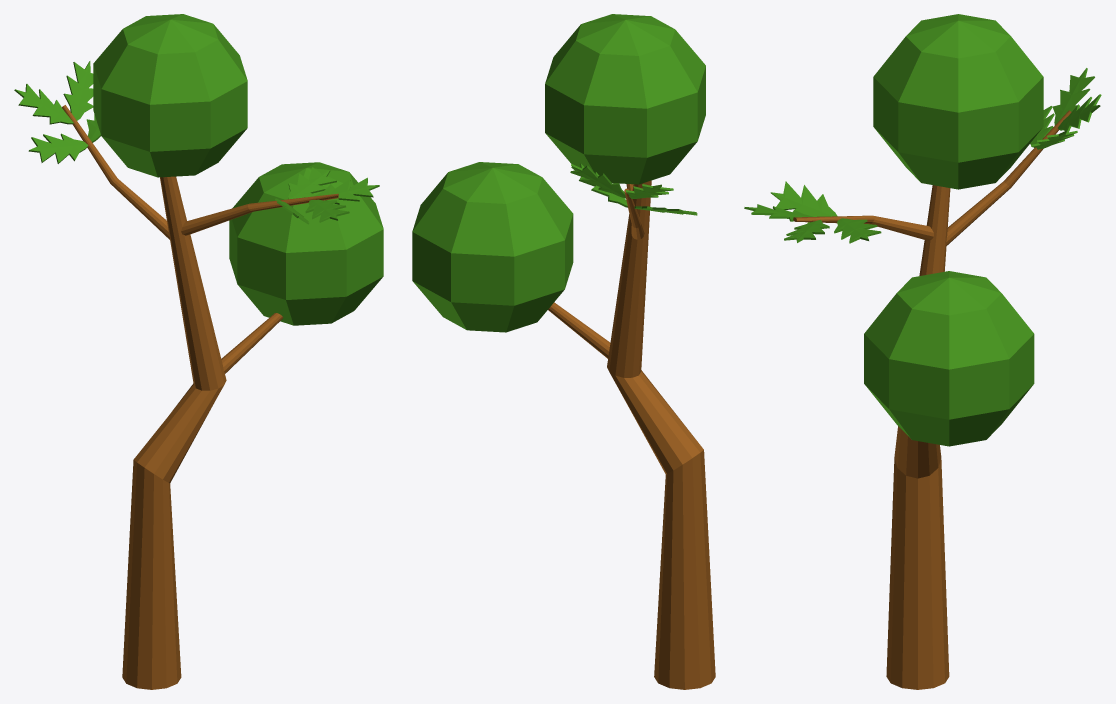
Rendered from OakStage2.fbx.
3 renders of one model, left to right at view 1: azimuth 30°, elevation 25°; view 2: azimuth 150°, elevation 25°; view 3: azimuth 270°, elevation 25°, orthographic. The views are drawn at different scales.
Parts seen in each view (by area): view 1: OakStage2; view 2: OakStage2; view 3: OakStage2.
Part boxes in pixels (x1,y1,x2,y2): OakStage2: [14, 14, 383, 689]; OakStage2: [412, 14, 715, 689]; OakStage2: [744, 14, 1101, 689].
Size of the model in its own units: 125 by 247 by 118.
